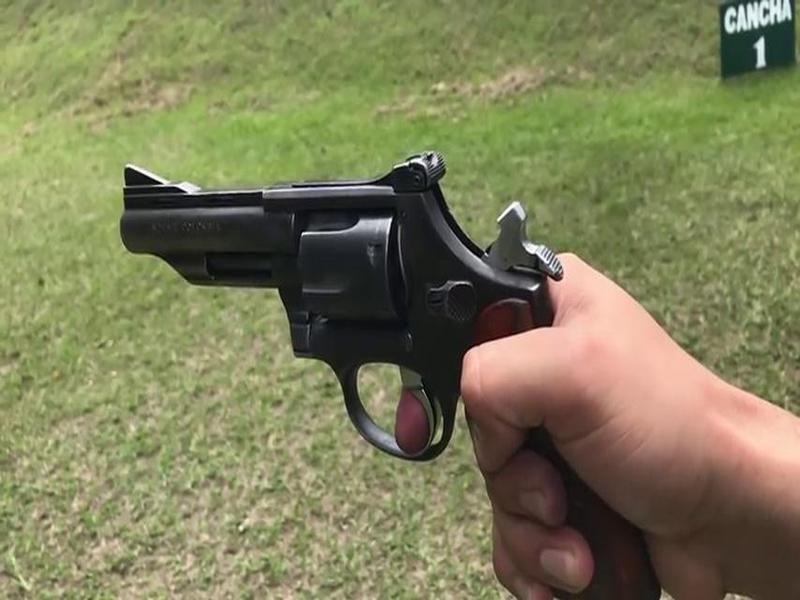Revolver: (112, 125, 588, 497)
